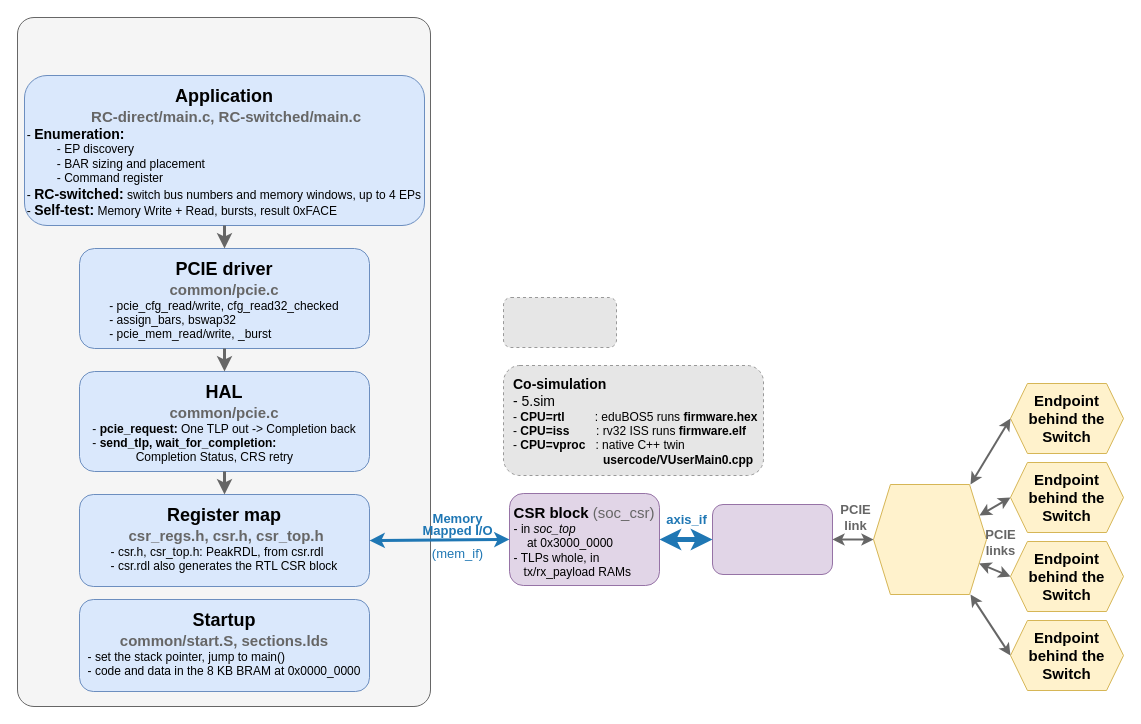
Some shapes in this 1141 by 724 pixel diagram are drawn without their labels. Each missing label, with the box of its shape:
Direct Endpoint or a Switch Node: (872, 484, 986, 594)
eduBOS5 (firmware.hex): (16, 16, 430, 706)
pcie_top - TLPs to/from the link: (712, 504, 832, 574)
SW build - 4.build/sw_build: (502, 296, 616, 348)
